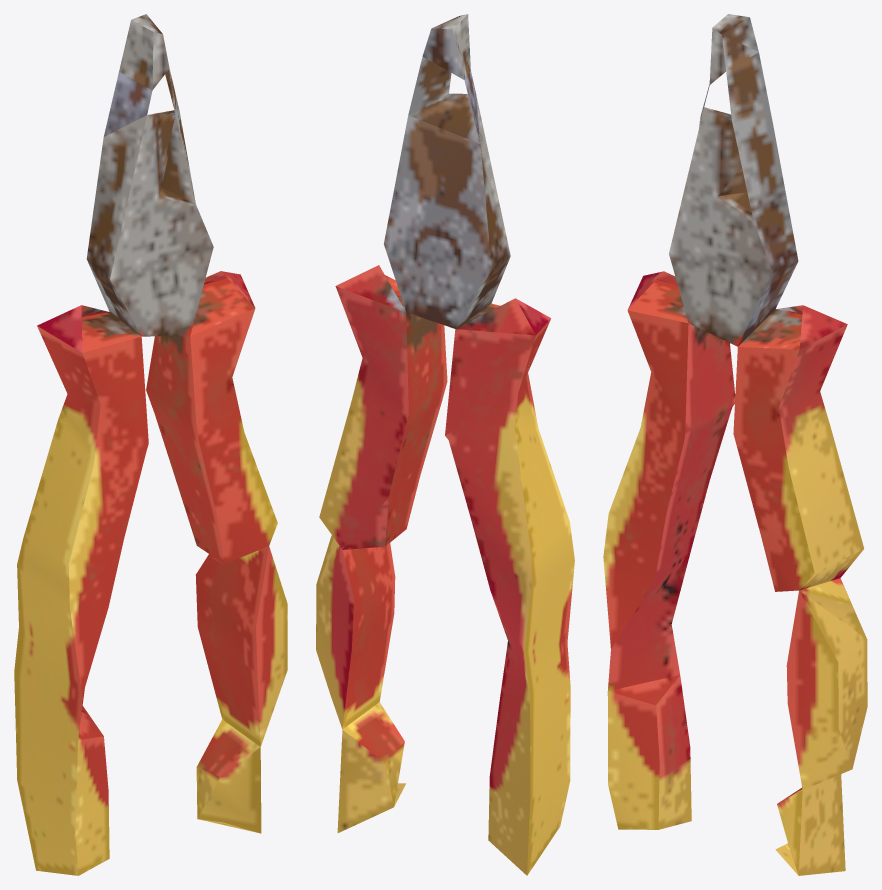
File: pliers.glb
3 renders of one model, left to right at view 1: azimuth 30°, elevation 25°; view 2: azimuth 150°, elevation 25°; view 3: azimuth 330°, elevation 25°, orthographic. The views are drawn at different scales.
Parts seen in each view (by area): view 1: mesh; view 2: mesh; view 3: mesh.
Boxes of the visible parts, bbox=[...] form: mesh: bbox=[14, 14, 287, 875]; mesh: bbox=[316, 14, 574, 875]; mesh: bbox=[603, 14, 867, 875].
Size of the model in its own units: 0.0522 by 0.1798 by 0.0208.
1 material, 1 textured.
